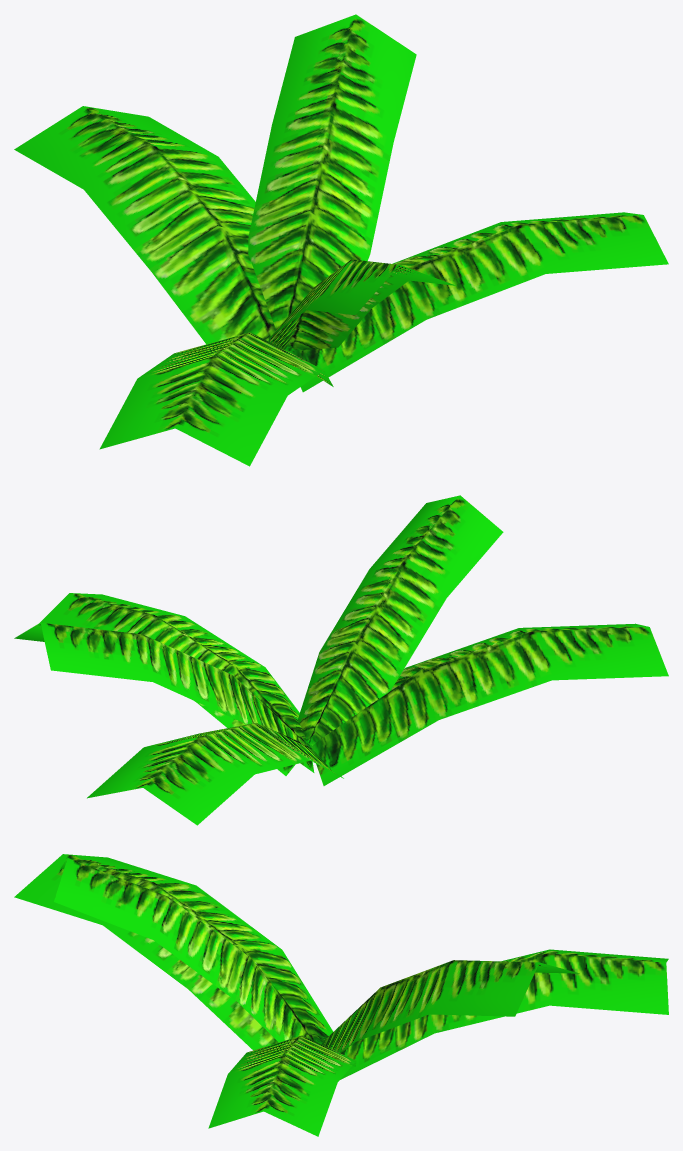
The model's file is INST_EKH_FERN_PLANT_01.fbx.
3 views of the same model, one above another, from view 1: azimuth 30°, elevation 25°; view 2: azimuth 150°, elevation 25°; view 3: azimuth 270°, elevation 25° (orthographic). The views are drawn at different scales.
Visible parts, largest first — view 1: INST_EKH_FERN_PLANT_01; view 2: INST_EKH_FERN_PLANT_01; view 3: INST_EKH_FERN_PLANT_01.
Part boxes in pixels (x1,y1,x2,y2): INST_EKH_FERN_PLANT_01: (14,14,668,466); INST_EKH_FERN_PLANT_01: (14,495,668,825); INST_EKH_FERN_PLANT_01: (14,854,668,1136).
Bounding box in the file's own units: 9609 × 3295 × 9855.
1 material, 1 textured.
